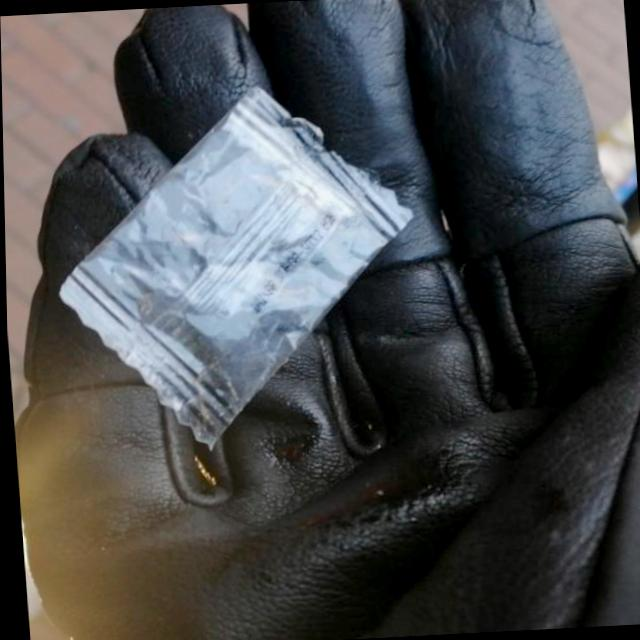Plastic: (39, 72, 433, 464)
